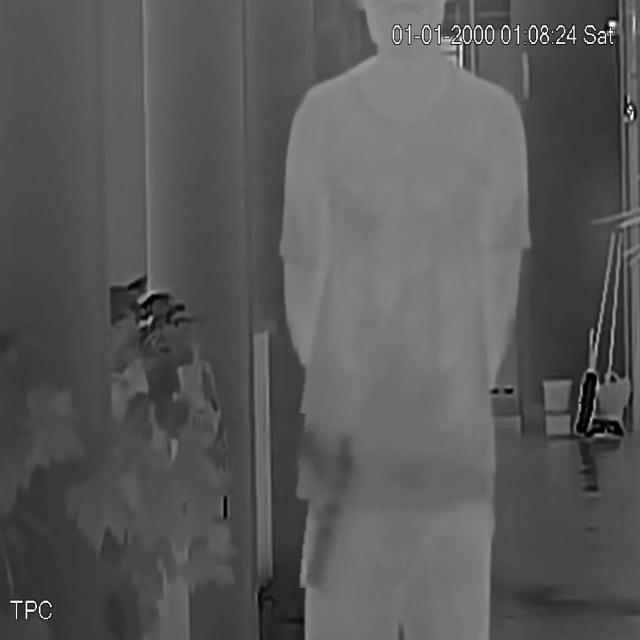Weapon: (282, 414, 361, 590)
